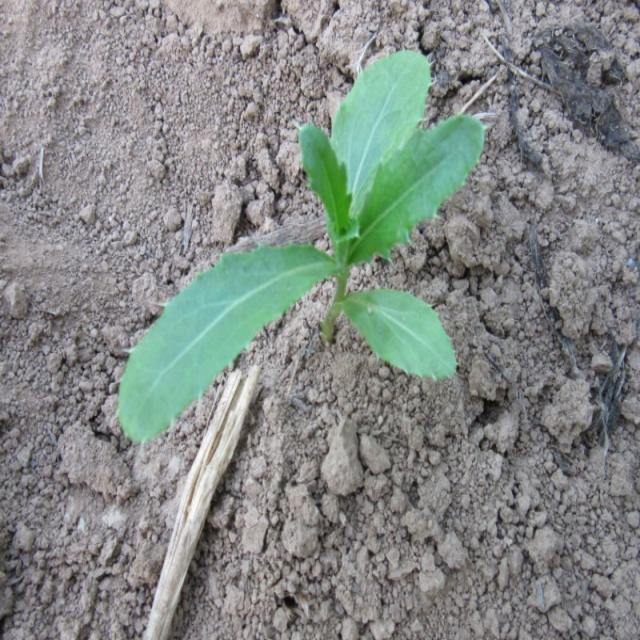cs: (115, 44, 485, 447)
